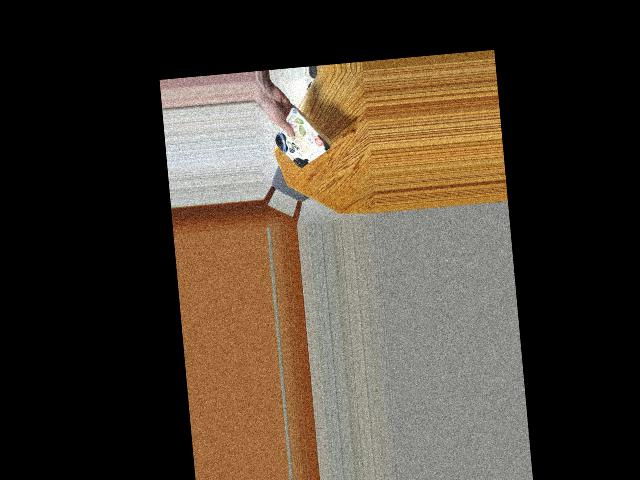cheese: (278, 112, 328, 169)
